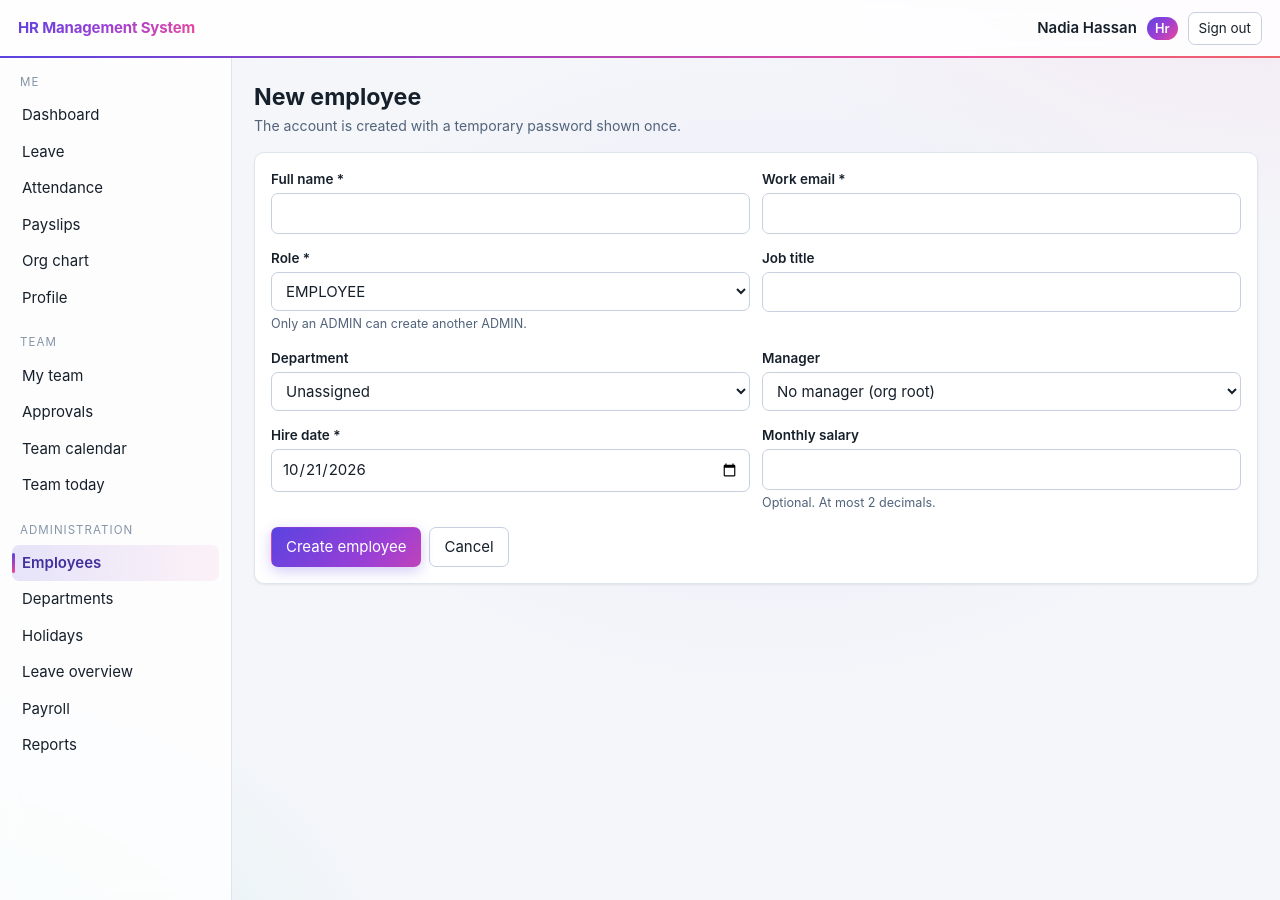
Test: create employee › posts the typed record and shows the temporary password once
Type "Laila Kamel" into the field labelled "Full name *" at (510,213), box [271,193,750,234]
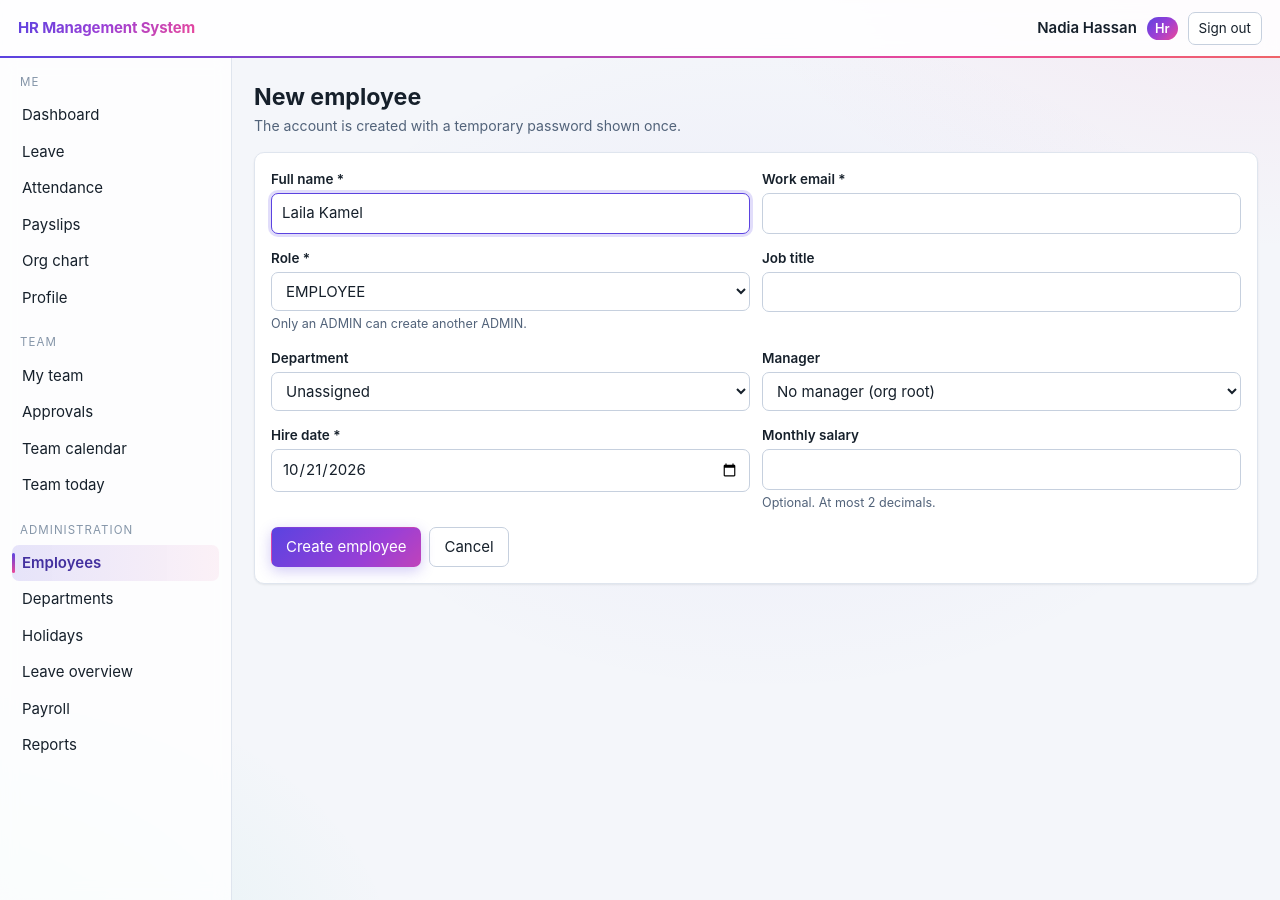
Type "laila@hr.local" into the field labelled "Work email *" at (1002,213), box [762,193,1241,234]
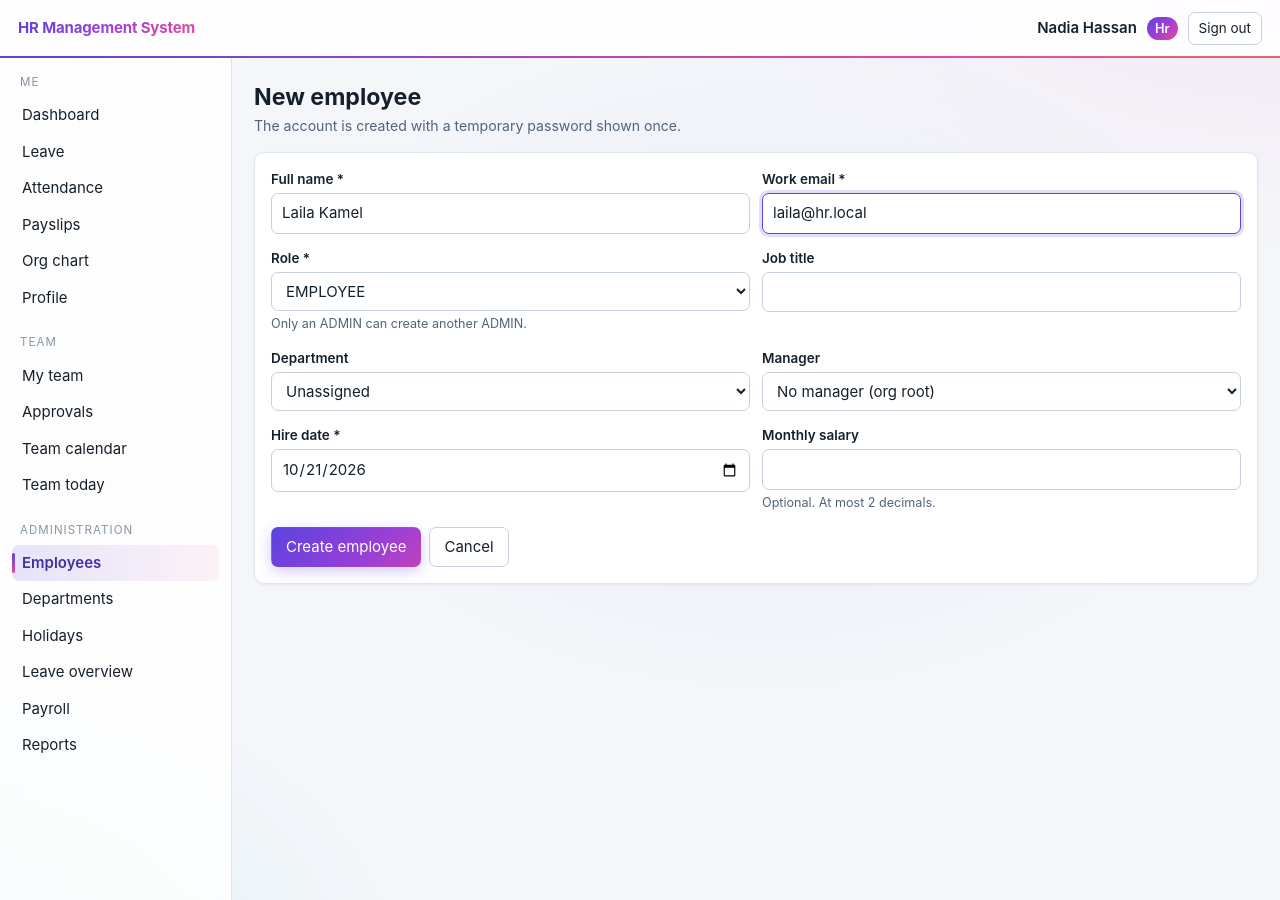
Click the button "Create employee" at (346,547), box [271,527,421,567]
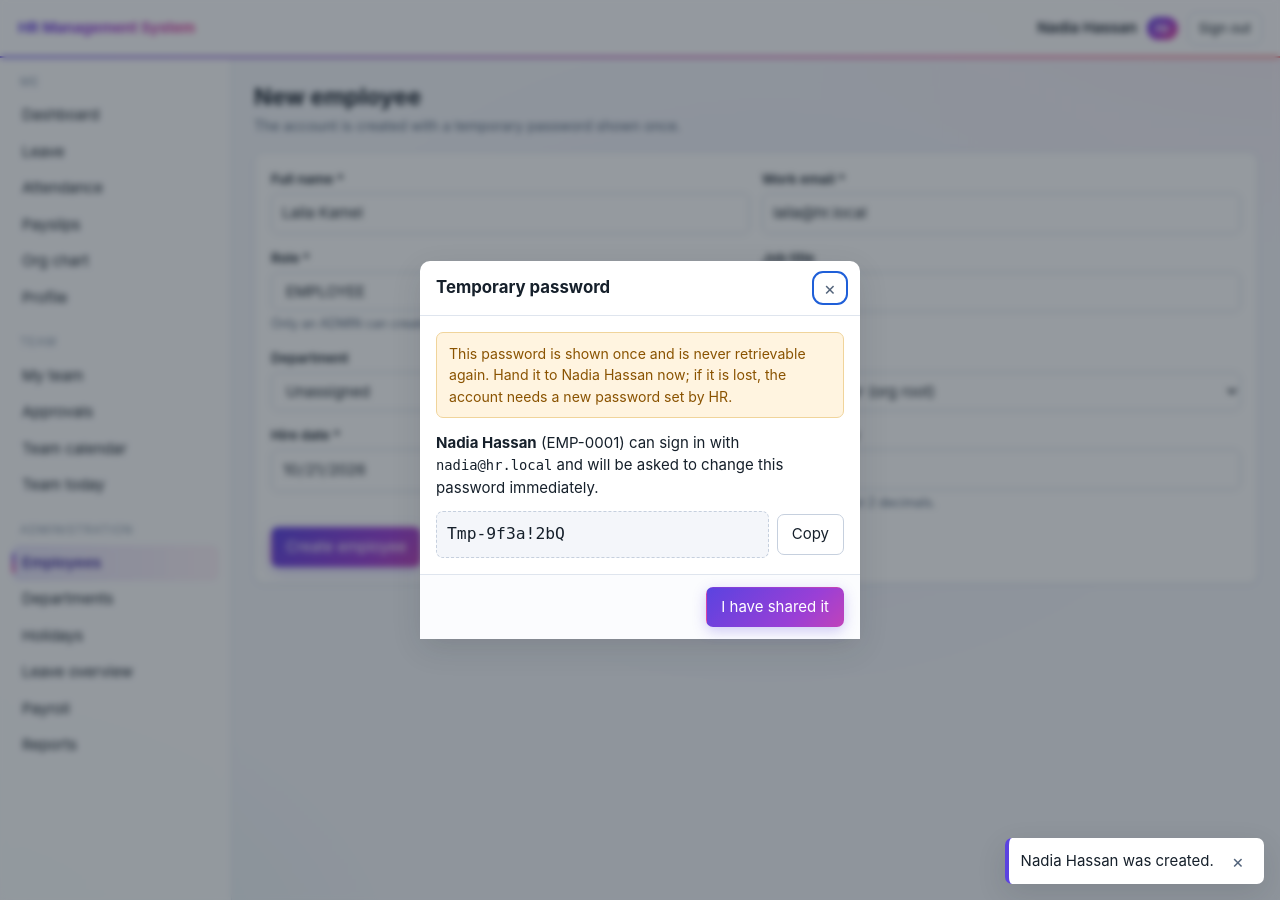
Result: the text named "Temporary password" reads "Tmp-9f3a!2bQ" at [447,524,565,543]
